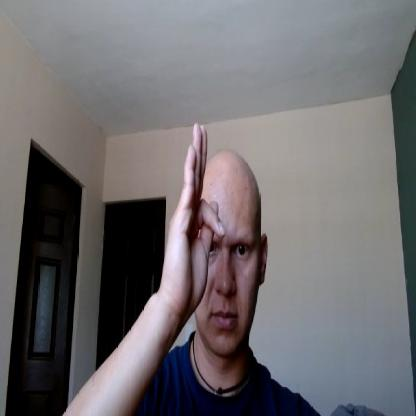F: (161, 121, 226, 316)
